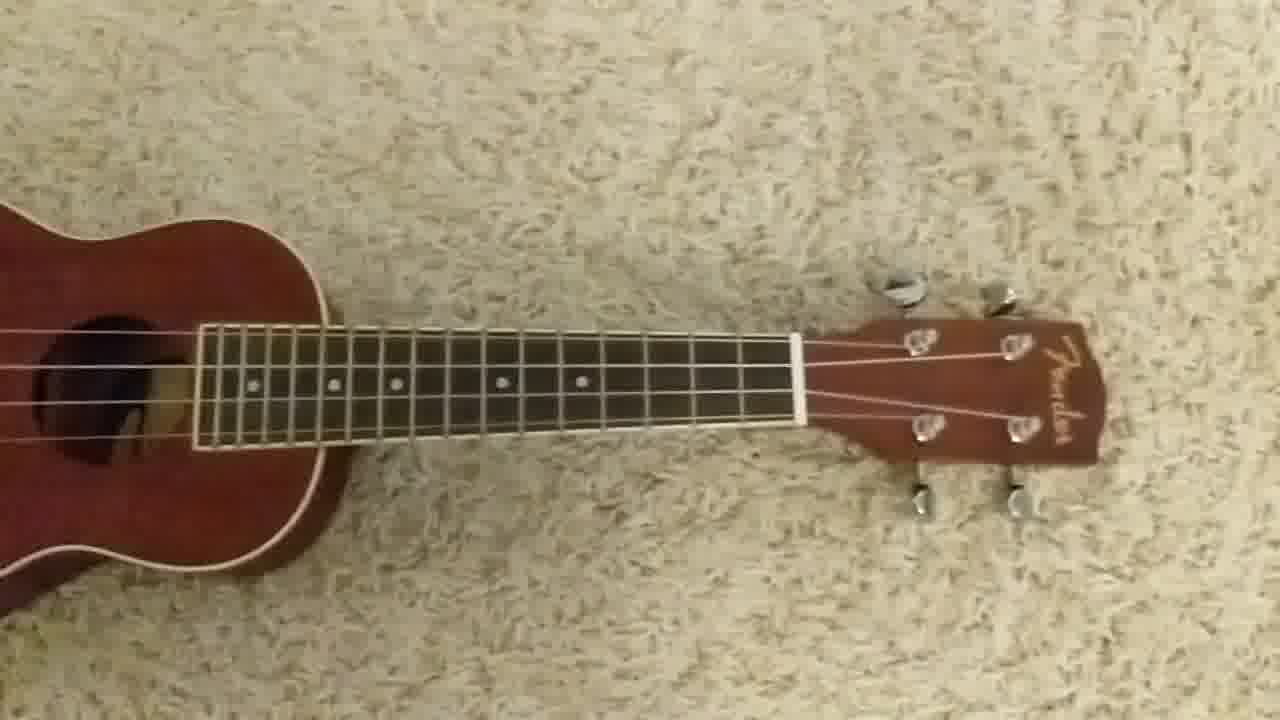Body: (1, 196, 350, 608)
Headstock: (806, 275, 1109, 520)
